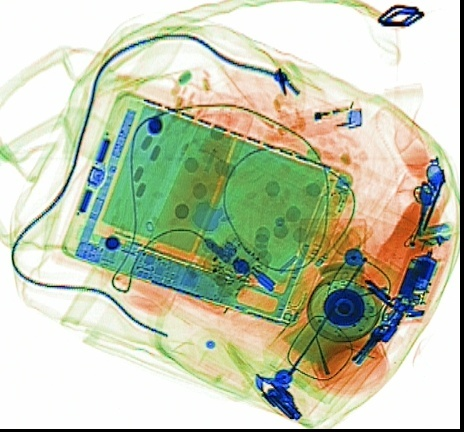lighter: (273, 99, 363, 142)
